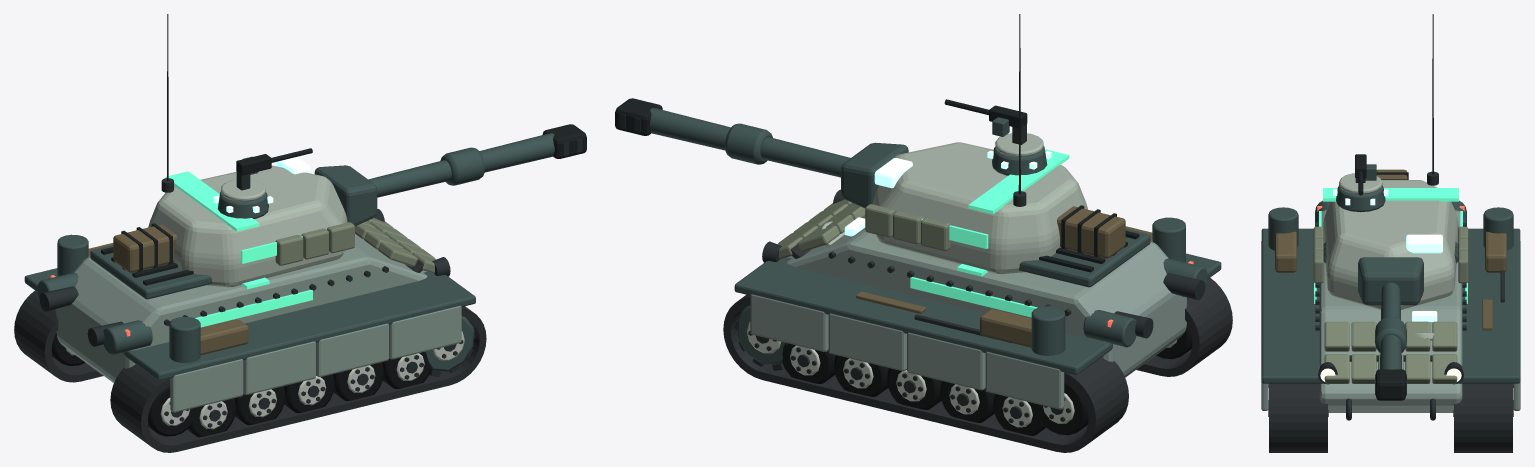
Rendered from tank.glb.
The picture shows the model from 3 angles, left to right: view 1: azimuth 30°, elevation 25°; view 2: azimuth 150°, elevation 25°; view 3: azimuth 270°, elevation 25°; orthographic projection. The views are drawn at different scales.
Visible parts, largest first — view 1: HullBody, TurretBody, Fender, Track_R, Tube, Track_L, Skirt_0, Skirt_3, Skirt_1, Skirt_2, Mantlet, Deck (+23 smaller); view 2: HullBody, TurretBody, Fender.001, Track_L, Tube, Track_R, Skirt_4, Skirt_5, Skirt_6, Skirt_7, Deck, Mantlet (+26 smaller); view 3: TurretBody, Fender, HullBody, Fender.001, Track_L, Track_R, Mantlet, Tube, TurretStripe, Brake, Drum, Drum.001 (+21 smaller).
Part boxes in pixels (x1,y1,x2,y2): HullBody: (56,235,427,382); TurretBody: (148,165,347,287); Fender: (122,271,475,380); Track_R: (110,306,486,452); Tube: (368,133,554,197); Track_L: (14,290,103,382); Skirt_0: (170,359,243,412); Skirt_3: (389,306,461,359); Skirt_1: (243,341,315,394); Skirt_2: (316,323,388,377); Mantlet: (314,165,377,226); Deck: (90,245,212,299); HullBody: (787,216,1186,377); TurretBody: (873,142,1087,274); Fender.001: (734,257,1112,374); Track_L: (723,294,1128,452); Tube: (649,108,850,177); Track_R: (1136,278,1232,376); Skirt_4: (985,351,1064,409); Skirt_5: (907,332,985,390); Skirt_6: (828,313,906,371); Skirt_7: (750,294,828,351); Deck: (1019,228,1150,287); Mantlet: (841,142,908,208); TurretBody: (1323,180,1458,309); Fender: (1261,228,1323,383); HullBody: (1319,210,1462,412); Fender.001: (1458,228,1520,383); Track_L: (1454,383,1512,452); Track_R: (1269,383,1327,452); Mantlet: (1358,257,1423,305); Tube: (1380,282,1401,369); TurretStripe: (1323,188,1458,201); Brake: (1376,369,1405,400); Drum: (1268,207,1298,250); Drum.001: (1483,207,1513,250).
Bounding box in the file's own units: 67.6 × 45 × 30.9.
